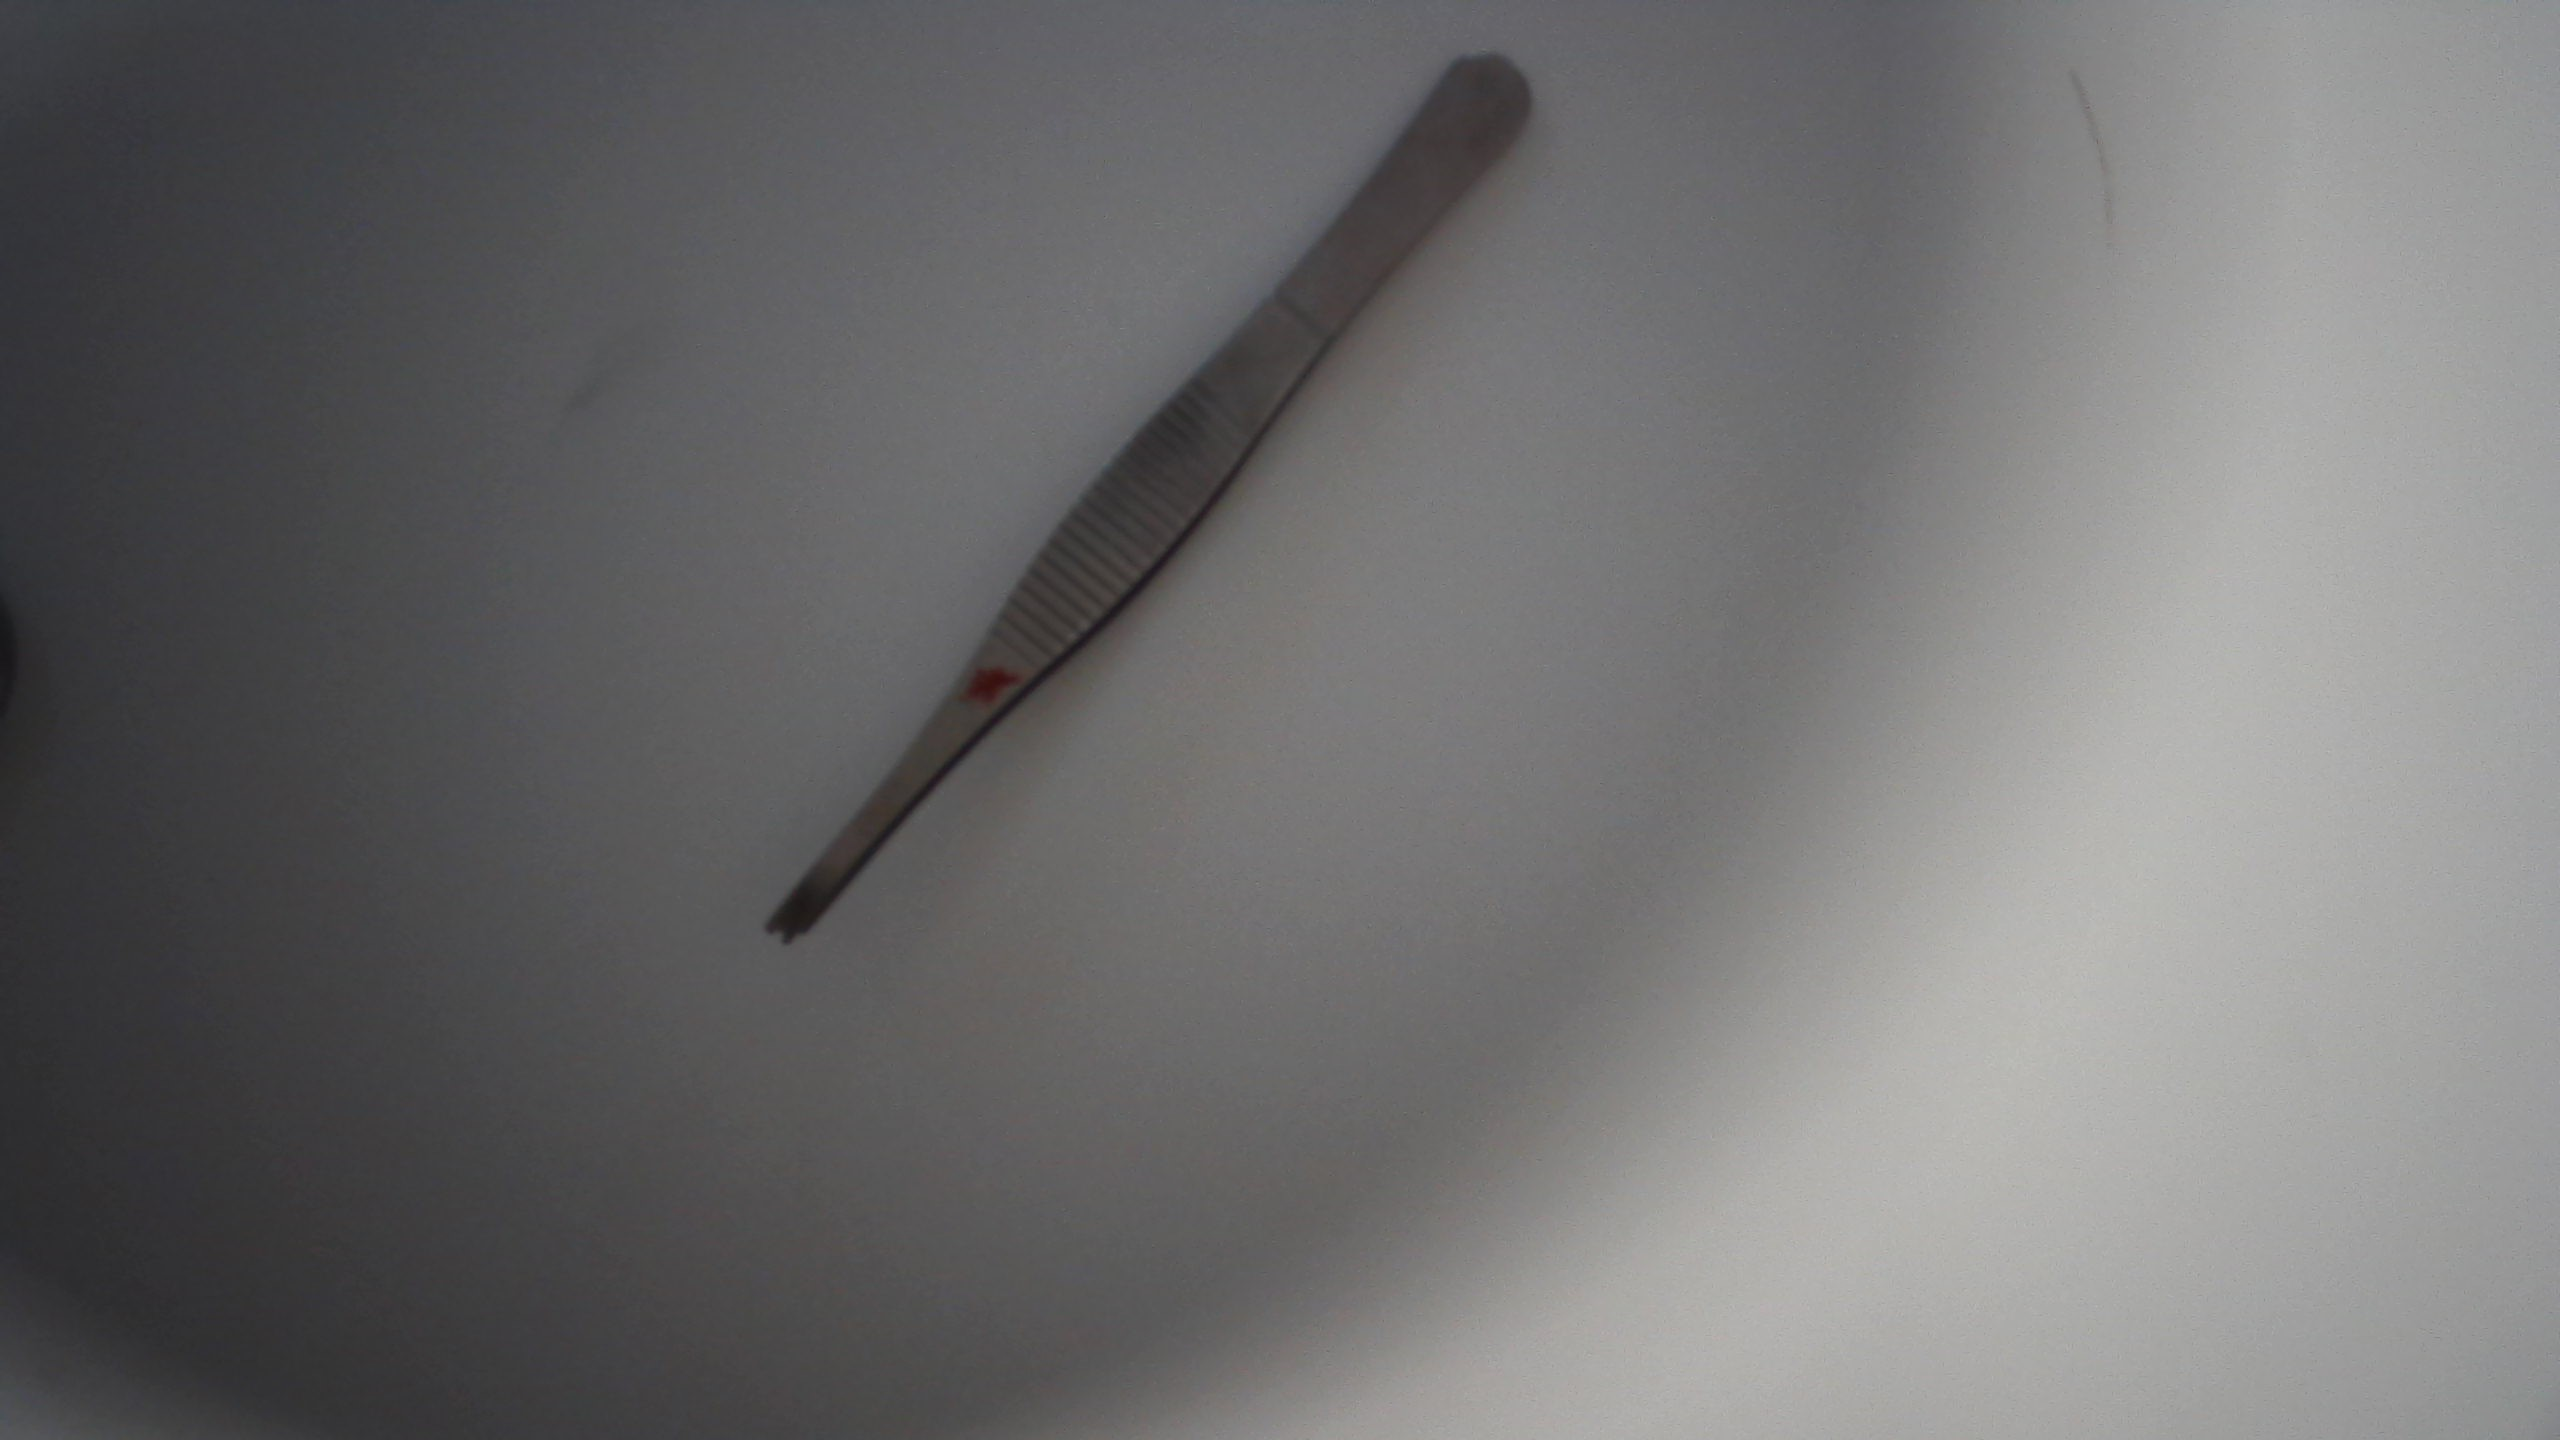Stain: (960, 665, 1027, 707)
